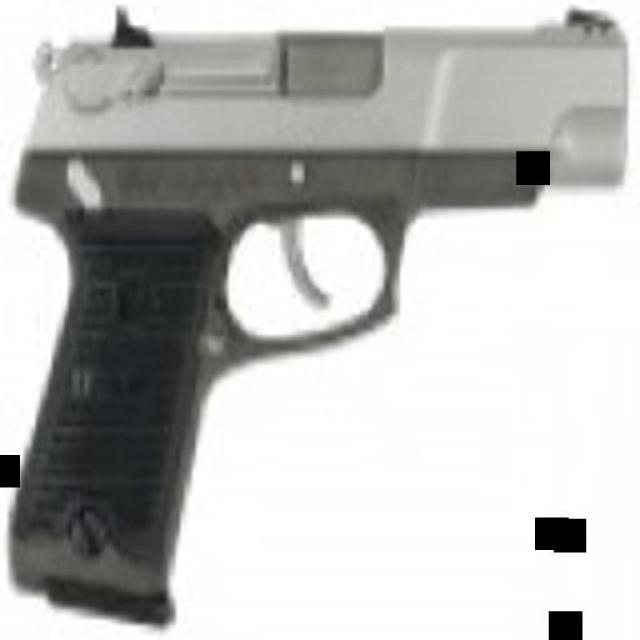gun: (23, 4, 626, 601)
